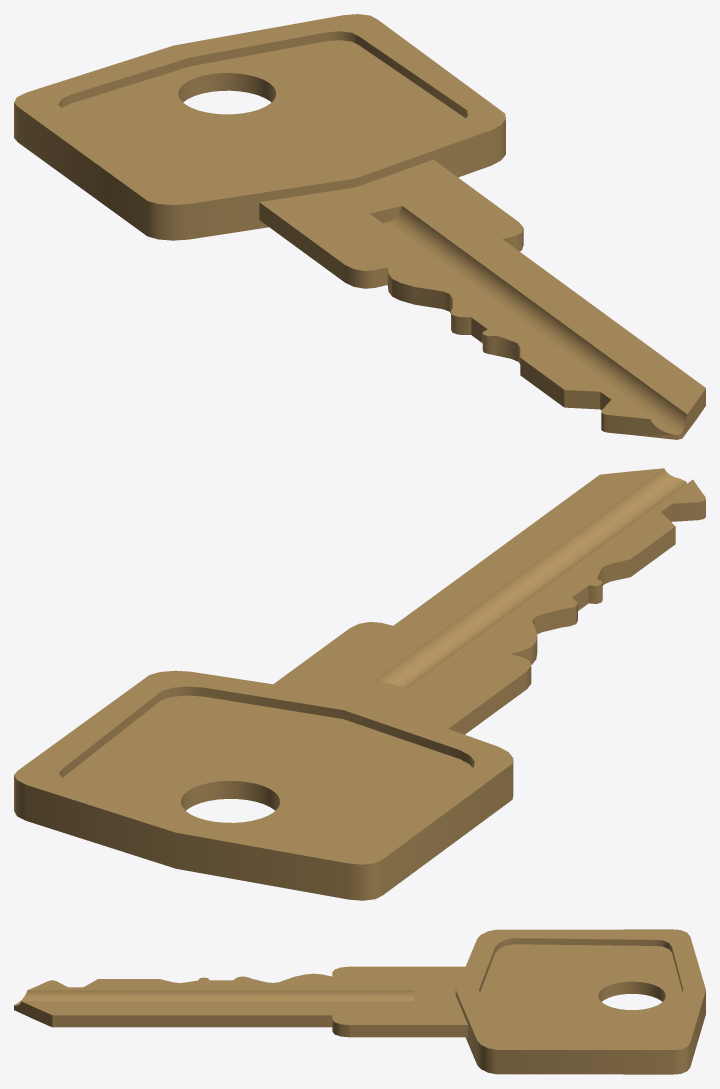
The model's file is key2.fbx.
3 renders of one model, top to bottom at view 1: azimuth 30°, elevation 25°; view 2: azimuth 150°, elevation 25°; view 3: azimuth 270°, elevation 25°, orthographic. The views are drawn at different scales.
Parts seen in each view (by area): view 1: key2; view 2: key2; view 3: key2.
Boxes of the visible parts, x1,y1,x2,y2 form: key2: (14,14,705,439); key2: (14,468,705,900); key2: (14,929,705,1074).
Size of the model in its own units: 11.17 by 1.06 by 27.08.
